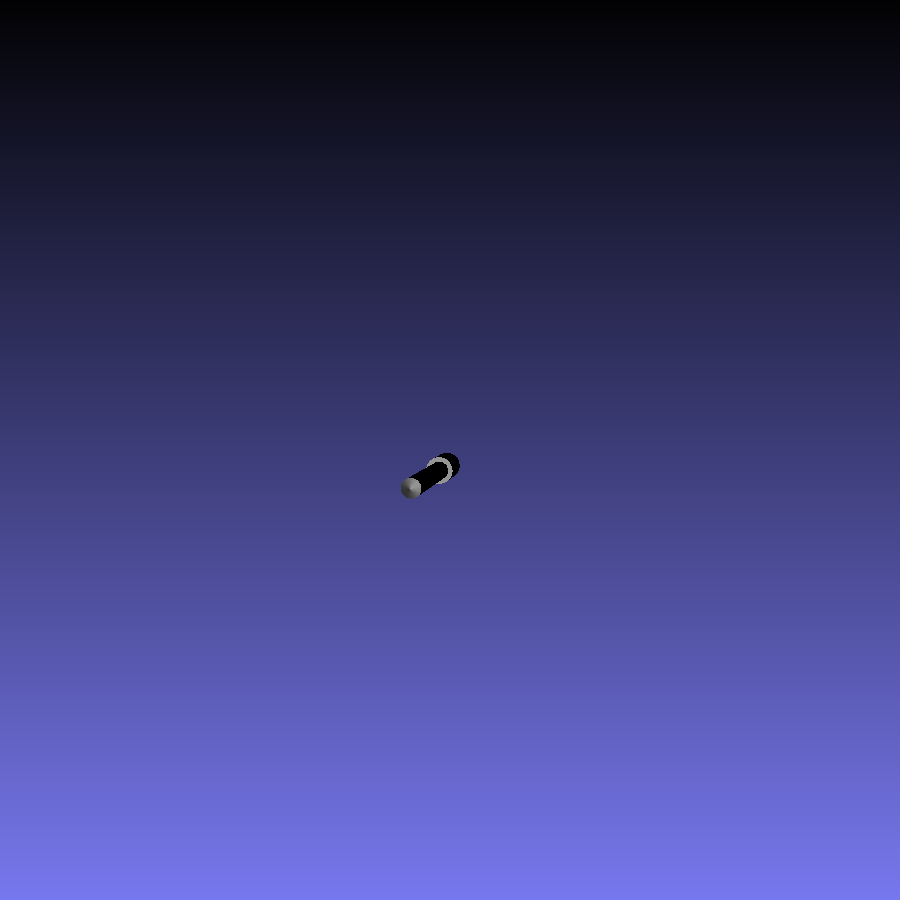cargo_g: (403, 451, 459, 505)
